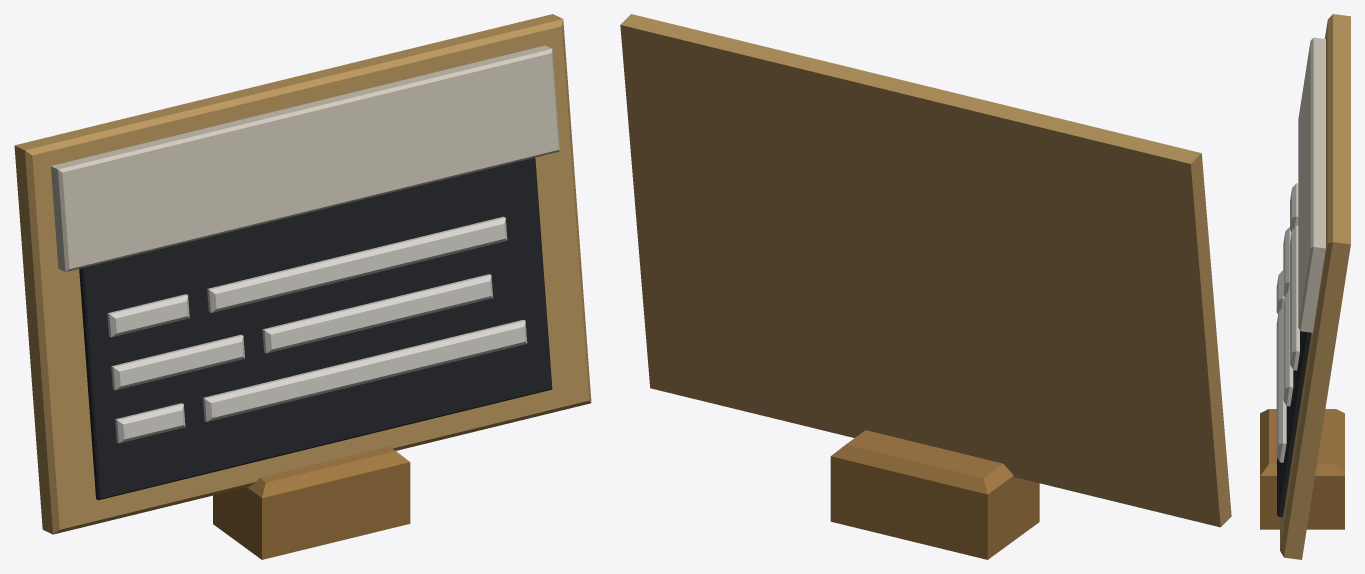
File: species-id-plaque-5f73ed.glb
The picture shows the model from 3 angles, left to right: view 1: azimuth 30°, elevation 25°; view 2: azimuth 150°, elevation 25°; view 3: azimuth 270°, elevation 25°; orthographic projection. The views are drawn at different scales.
Visible parts, largest first — view 1: plaque; view 2: plaque; view 3: plaque.
Boxes of the visible parts, x1,y1,x2,y2 form: plaque: (14,14,591,559); plaque: (620,14,1231,559); plaque: (1260,14,1350,559).
Size of the model in its own units: 0.356 by 0.2695 by 0.06.
